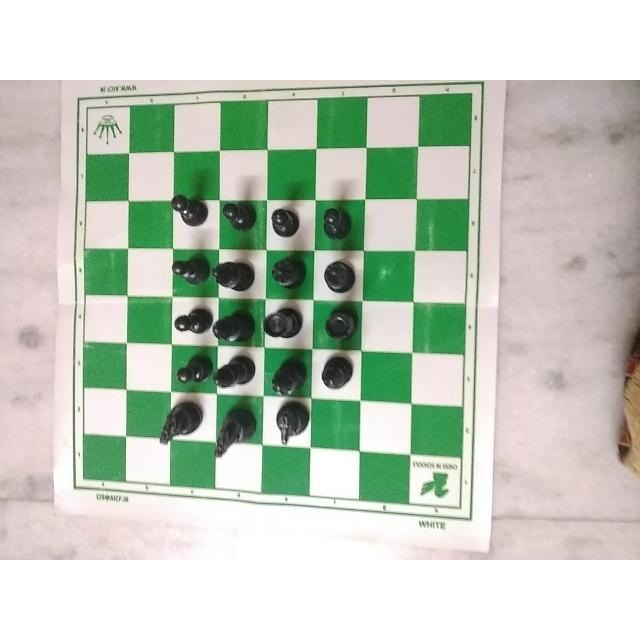black-bishop: (317, 253, 363, 296), (267, 353, 309, 398), (213, 303, 257, 345), (209, 252, 254, 293), (213, 351, 257, 391), (320, 357, 360, 395), (270, 253, 306, 289)
black-knight: (210, 402, 262, 460), (155, 403, 203, 449), (269, 401, 310, 445)
black-pawn: (219, 198, 260, 242), (169, 252, 213, 290), (170, 192, 211, 232), (323, 198, 357, 244), (171, 353, 212, 387), (173, 303, 212, 337), (266, 200, 298, 239)
black-rook: (319, 306, 361, 349), (258, 307, 298, 343)
